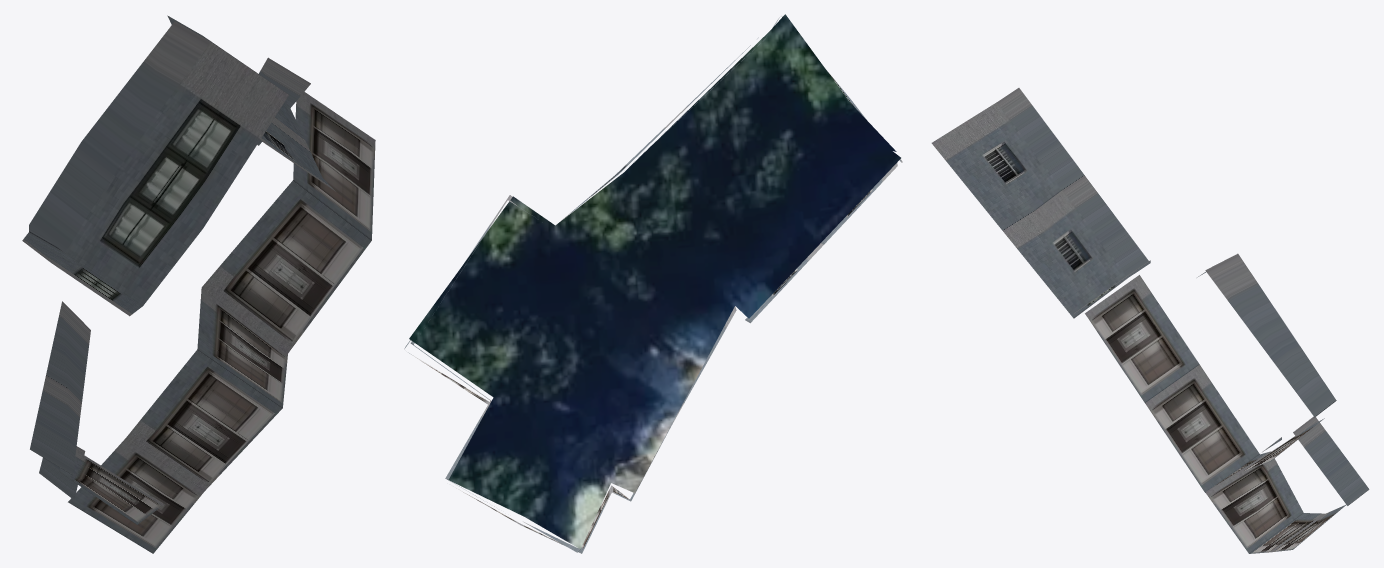
File: tile_LOD4_r12_c12.glb
3 renders of one model, left to right at view 1: azimuth 30°, elevation 25°; view 2: azimuth 150°, elevation 25°; view 3: azimuth 270°, elevation 25°, orthographic. The views are drawn at different scales.
Size of the model in its own units: 20 by 24.75 by 20.
5 materials, 5 textured.
